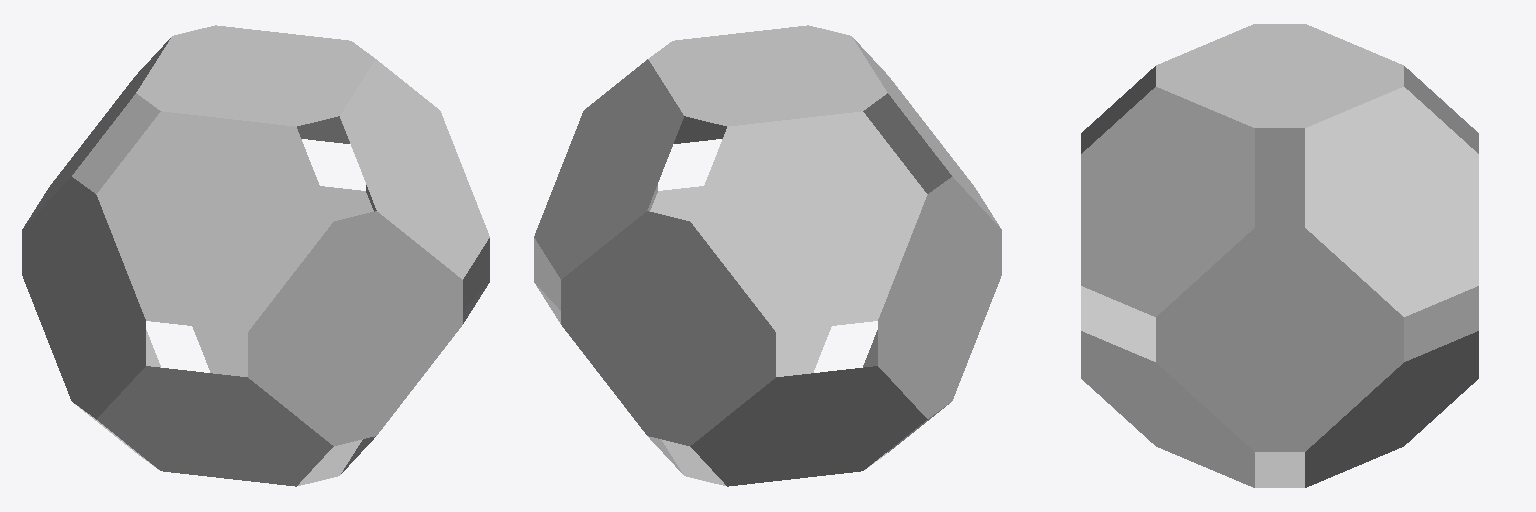
File: cubc.obj
3 renders of one model, left to right at view 1: azimuth 30°, elevation 25°; view 2: azimuth 150°, elevation 25°; view 3: azimuth 270°, elevation 25°, orthographic.
Parts seen in each view (by area): view 1: cubc; view 2: cubc; view 3: cubc.
Boxes of the visible parts, box(x1,y1,x2,y2) form: cubc: box(22, 25, 489, 486); cubc: box(534, 25, 1001, 486); cubc: box(1081, 24, 1478, 487).
Size of the model in its own units: 1.6 by 1.6 by 1.6.